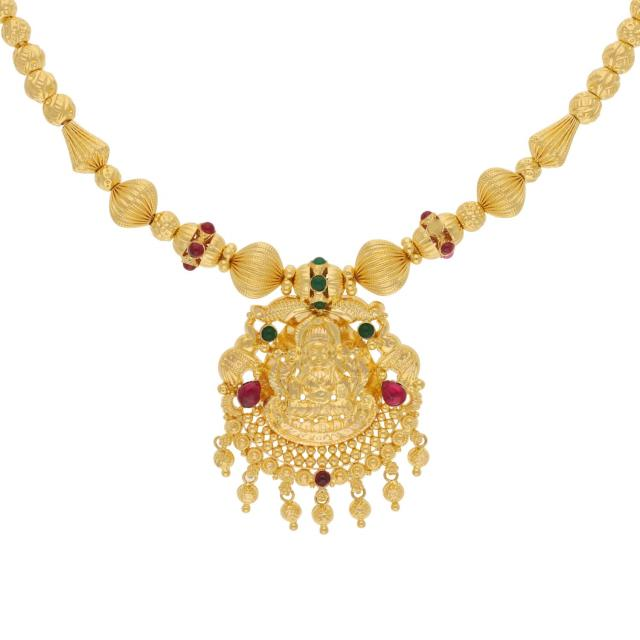missing gem: (428, 220, 443, 236)
